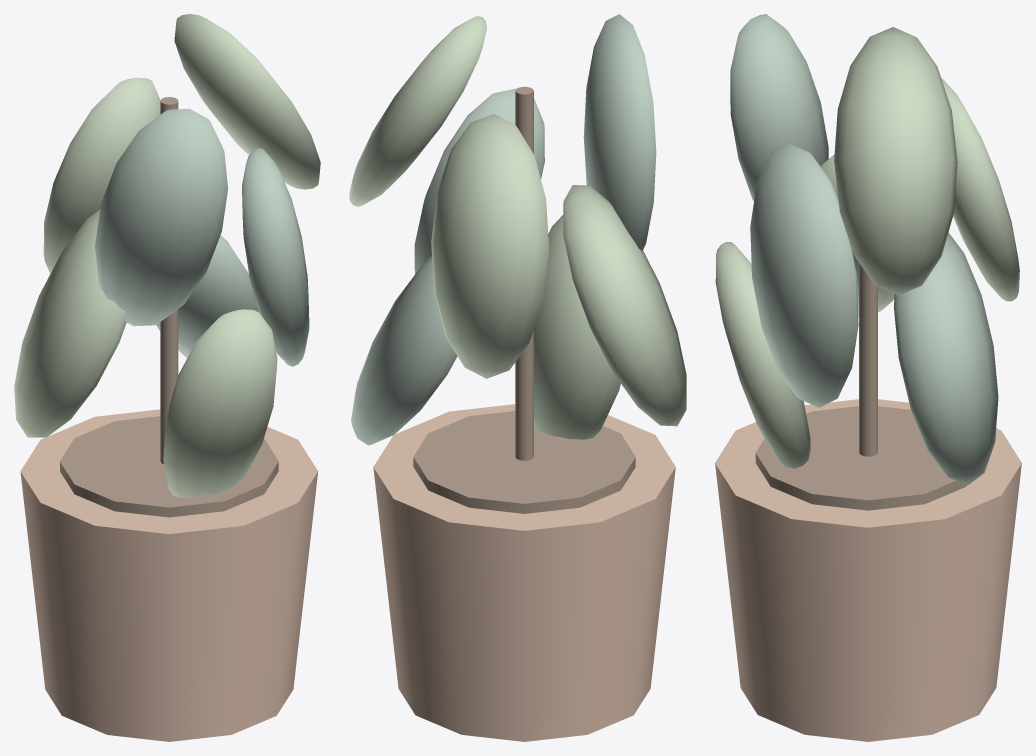
The model's file is plant-w1_1.glb.
3 renders of one model, left to right at view 1: azimuth 30°, elevation 25°; view 2: azimuth 150°, elevation 25°; view 3: azimuth 270°, elevation 25°, orthographic. The views are drawn at different scales.
Parts seen in each view (by area): view 1: plant-w1_1.material0, plant-w1_1.material2, plant-w1_1.material3, plant-w1_1.material1; view 2: plant-w1_1.material0, plant-w1_1.material2, plant-w1_1.material3, plant-w1_1.material1; view 3: plant-w1_1.material0, plant-w1_1.material3, plant-w1_1.material2, plant-w1_1.material1.
Boxes of the visible parts, <box> form: plant-w1_1.material0: <box>20,409,318,741</box>; plant-w1_1.material2: <box>14,14,320,497</box>; plant-w1_1.material3: <box>95,108,309,366</box>; plant-w1_1.material1: <box>60,97,278,517</box>; plant-w1_1.material0: <box>373,404,675,741</box>; plant-w1_1.material2: <box>349,16,686,439</box>; plant-w1_1.material3: <box>351,14,656,445</box>; plant-w1_1.material1: <box>413,86,635,513</box>; plant-w1_1.material0: <box>715,399,1021,741</box>; plant-w1_1.material3: <box>730,14,998,485</box>; plant-w1_1.material2: <box>715,27,1019,468</box>; plant-w1_1.material1: <box>755,263,966,510</box>.
Bounding box in the file's own units: 0.4845 × 0.9927 × 0.408.
